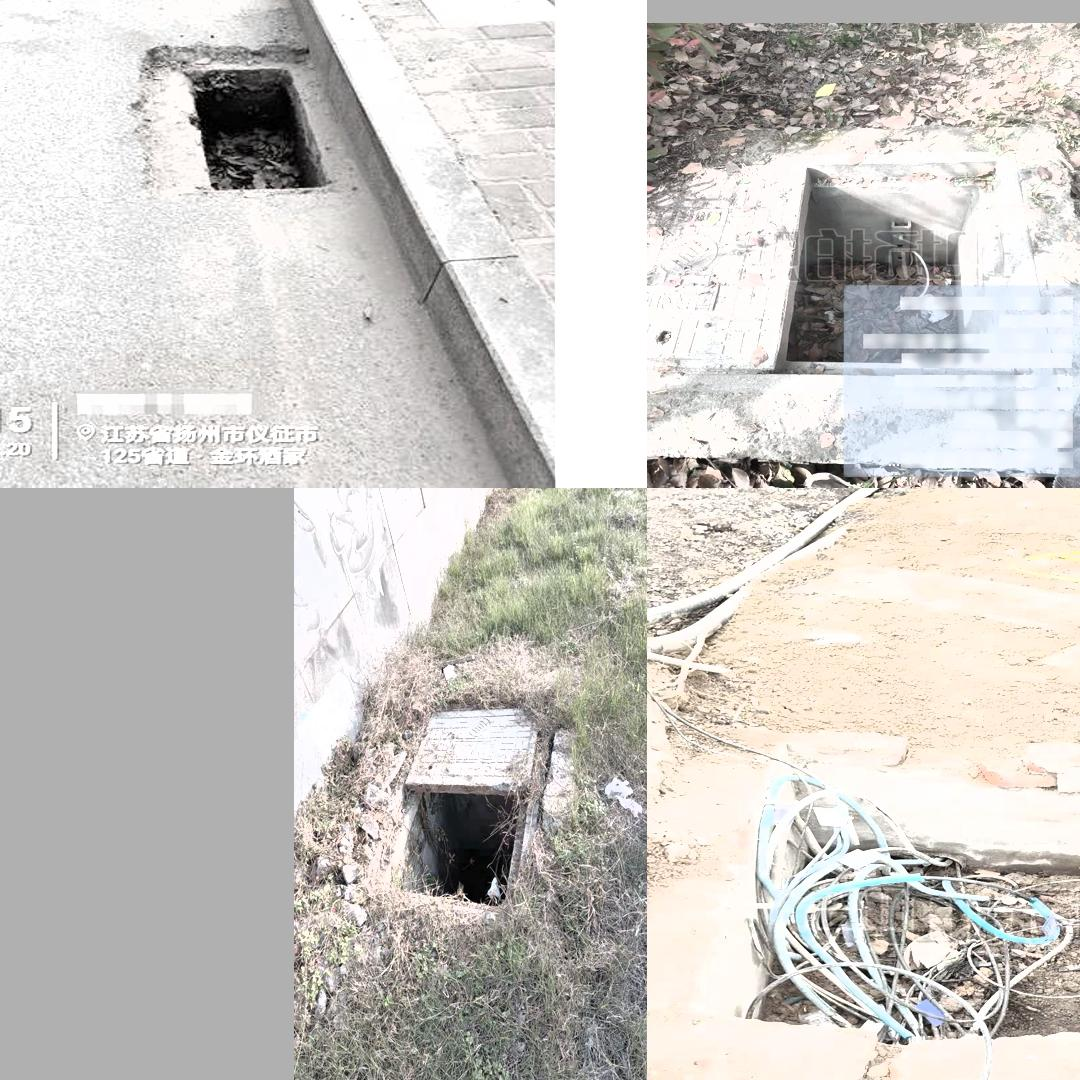lose: (673, 756, 1080, 1047), (749, 131, 1047, 387), (96, 23, 401, 226), (389, 690, 556, 896)
